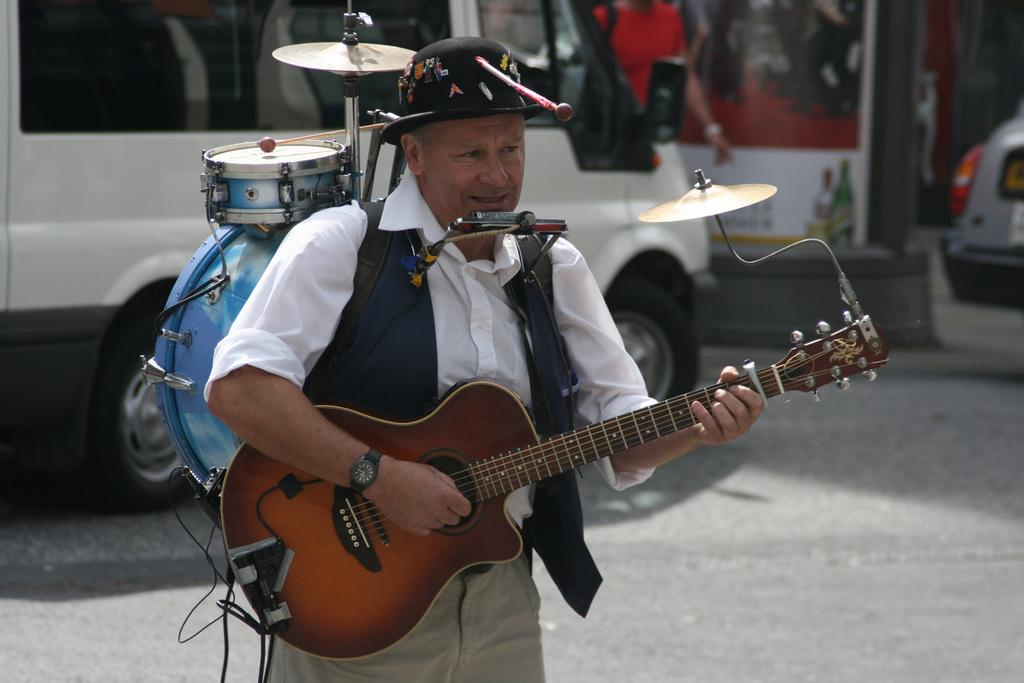Hat: (384, 37, 561, 143)
